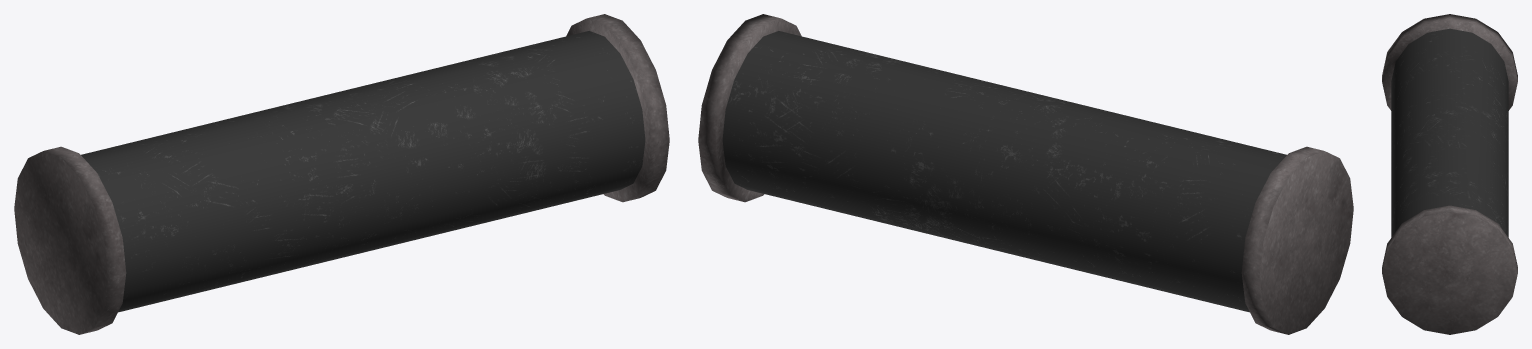
The model's file is PipeBase.fbx.
3 views of the same model, side by side, from view 1: azimuth 30°, elevation 25°; view 2: azimuth 150°, elevation 25°; view 3: azimuth 270°, elevation 25° (orthographic). The views are drawn at different scales.
Parts seen in each view (by area): view 1: PipeBase; view 2: PipeBase; view 3: PipeBase.
Part boxes in pixels (box(x1,y1,x2,y2)): PipeBase: box(14, 14, 669, 334); PipeBase: box(698, 14, 1353, 334); PipeBase: box(1382, 14, 1517, 334).
Bounding box in the file's own units: 100 × 29.04 × 29.04.
1 material, 1 textured.
